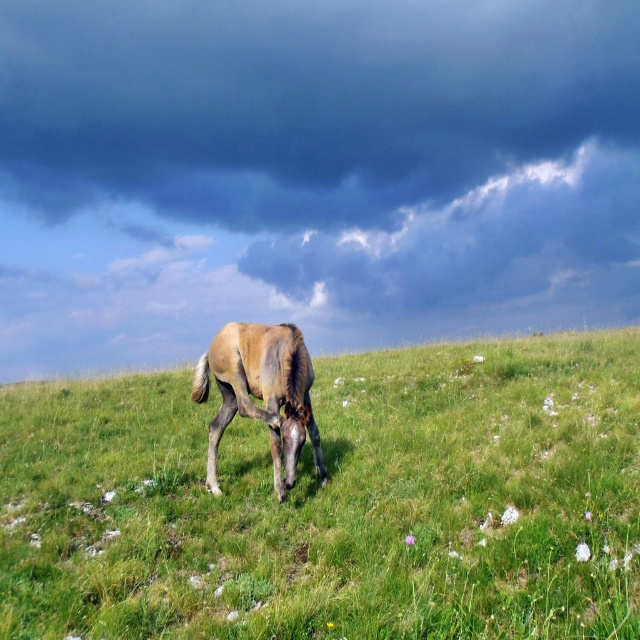Horse: (191, 324, 330, 505)
